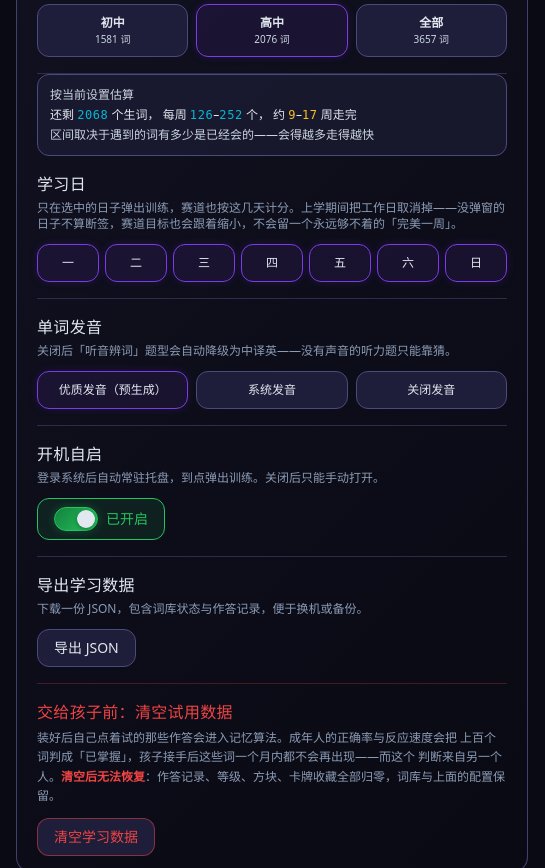
Test: 设置面板 › 导出按钮真正请求后端，失败时显示原因
(page scrolled)
Click the button "导出 JSON".
click(86, 648)  # box [37,629,136,667]
(page scrolled)
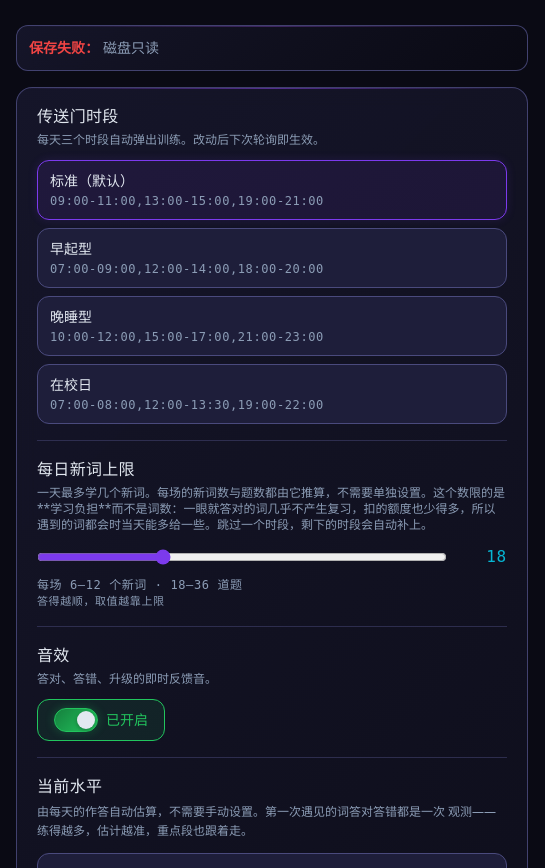
Result: the text "磁盘只读" is shown at [103,38,159,57]
